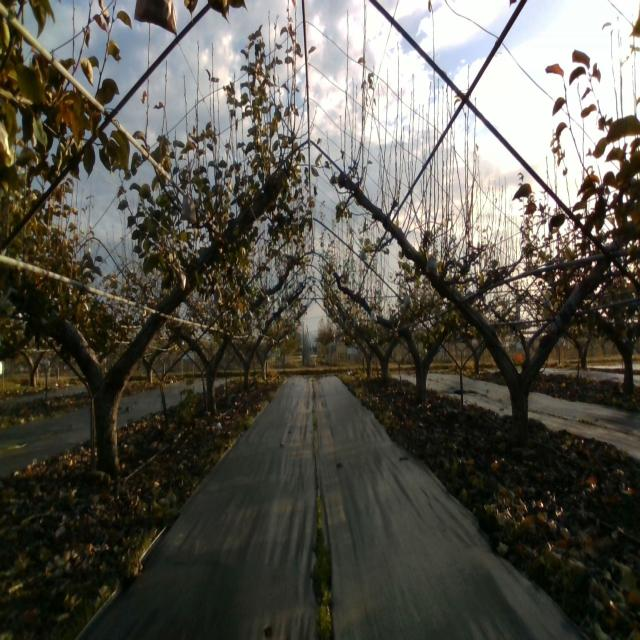pearbags: (180, 188, 197, 226), (426, 251, 438, 278)
